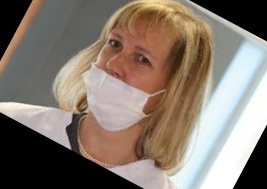mask_weared_incorrect: (84, 7, 181, 134)
